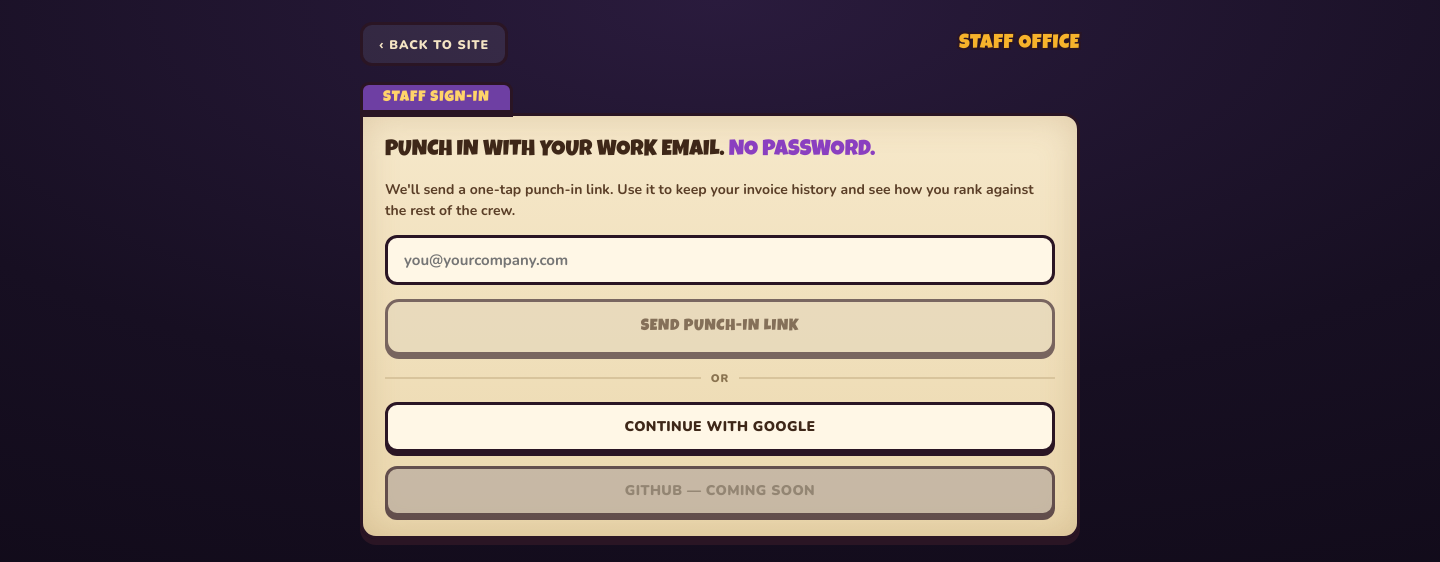
Staff Office, signed out › only lets a plausible email be sent
Expected: the button "SEND PUNCH-IN LINK" is disabled, [385,299,1055,355]
Type "ann@example.com" into the field with placeholder "you@yourcompany.com" at (720,260), box [385,235,1055,285]
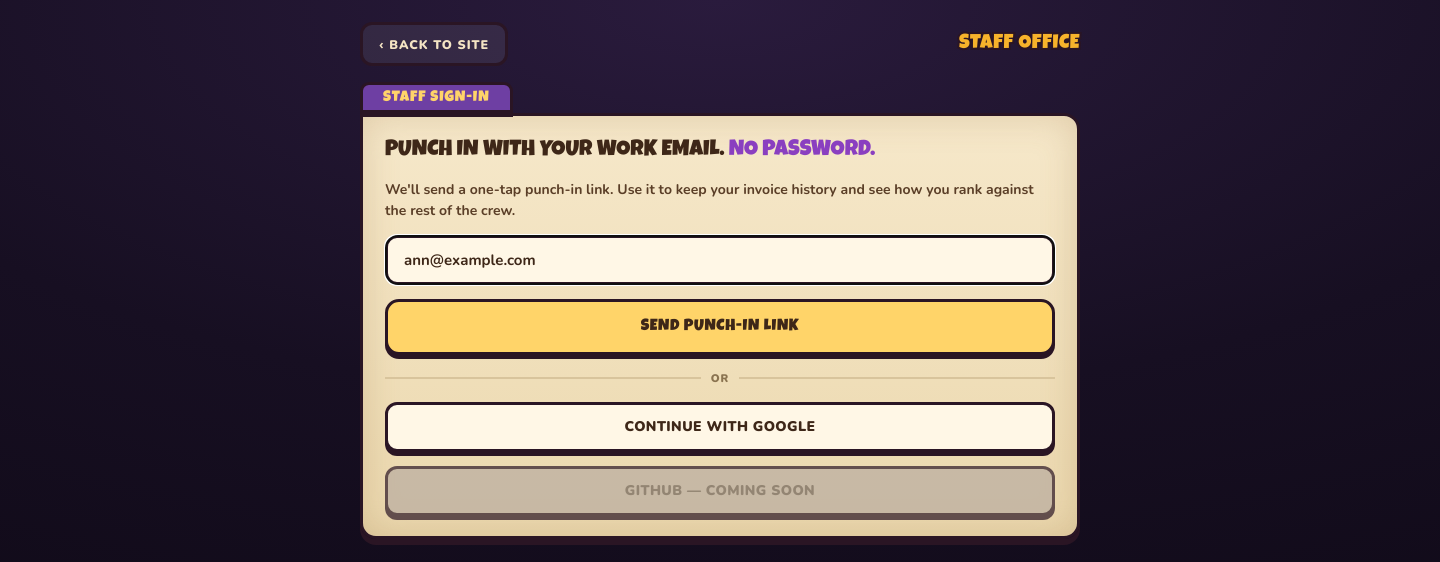
Now the button "SEND PUNCH-IN LINK" is enabled, box [385,299,1055,355]
